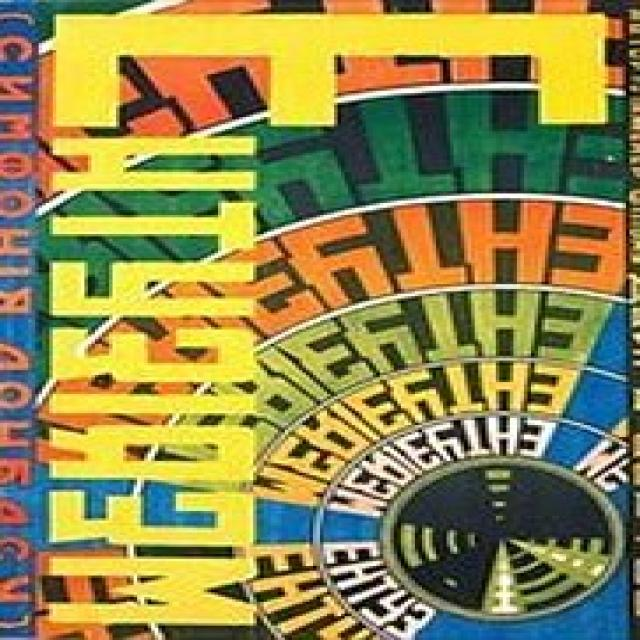movie-judul: (49, 17, 612, 640)
